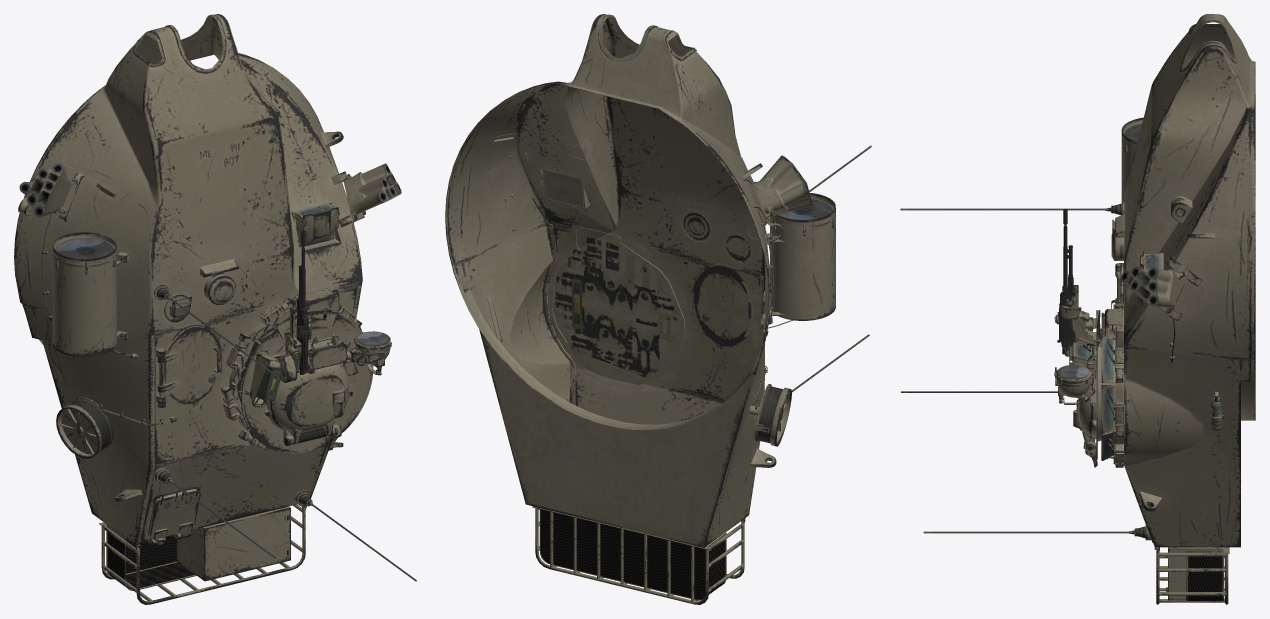
File: Turret_01.glb
The picture shows the model from 3 angles, left to right: view 1: azimuth 30°, elevation 25°; view 2: azimuth 150°, elevation 25°; view 3: azimuth 270°, elevation 25°; orthographic projection. The views are drawn at different scales.
Visible parts, largest first — view 1: set_0_group_0; view 2: set_0_group_0; view 3: set_0_group_0.
Boxes of the visible parts, box(x1,y1,x2,y2) form: set_0_group_0: box(14, 14, 416, 604); set_0_group_0: box(445, 14, 871, 604); set_0_group_0: box(900, 14, 1255, 604).
Bounding box in the file's own units: 2.87 × 4.24 × 2.54.
Materials: 1 (1 with a texture image).
